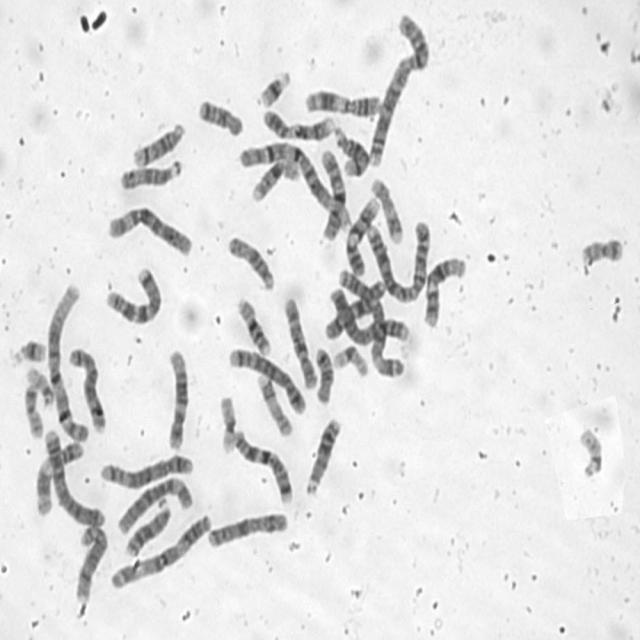A1: (239, 136, 352, 236), (43, 276, 91, 445)
A2: (365, 8, 432, 168), (362, 212, 433, 304)
A3: (107, 508, 216, 591), (332, 264, 408, 380)
B4: (40, 423, 106, 529), (326, 281, 411, 350)
B5: (224, 342, 310, 416), (97, 448, 196, 490)
C10: (280, 291, 319, 390), (317, 144, 349, 240)
C11: (33, 436, 86, 518), (301, 82, 384, 119)
C12: (420, 251, 469, 329), (164, 344, 191, 452)
C6: (114, 470, 195, 536), (104, 199, 194, 258)
C7: (229, 425, 295, 506), (102, 262, 165, 326)
C8: (65, 342, 108, 436), (72, 520, 110, 604)
C9: (343, 192, 382, 276), (259, 104, 338, 142)
D13: (121, 492, 173, 560), (303, 412, 343, 498)
D14: (129, 116, 187, 168), (331, 120, 372, 178)
D15: (225, 230, 278, 292), (116, 153, 184, 191)
E16: (248, 153, 302, 204), (233, 292, 273, 357)
E17: (368, 172, 405, 245), (255, 370, 294, 438)
E18: (194, 93, 246, 139), (311, 341, 336, 406)
F19: (215, 390, 239, 456), (330, 339, 370, 378)
F20: (578, 230, 626, 267), (21, 378, 45, 440)
G21: (255, 64, 294, 109), (7, 332, 48, 368)
G22: (575, 421, 605, 481), (24, 360, 56, 408)
X: (204, 506, 291, 551)
